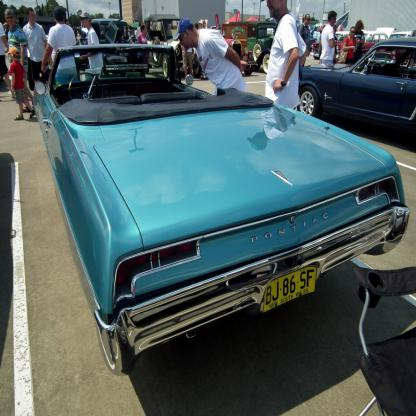Car: (0, 17, 416, 416)
